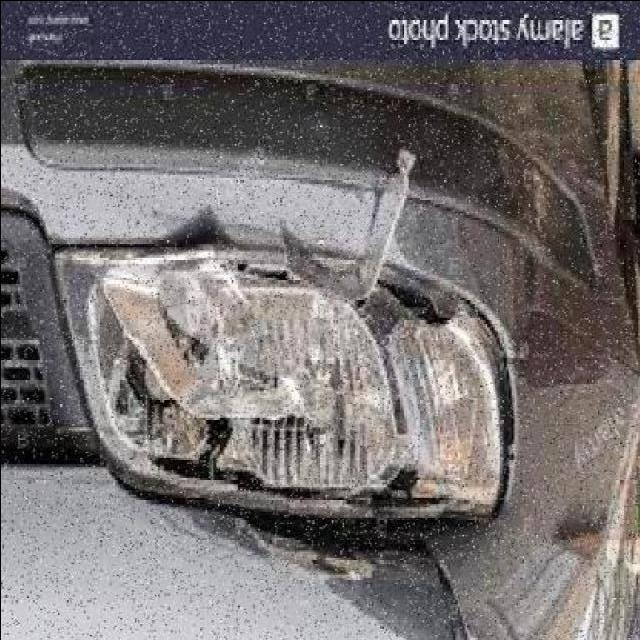Headlight-Damage: (48, 214, 542, 574)
